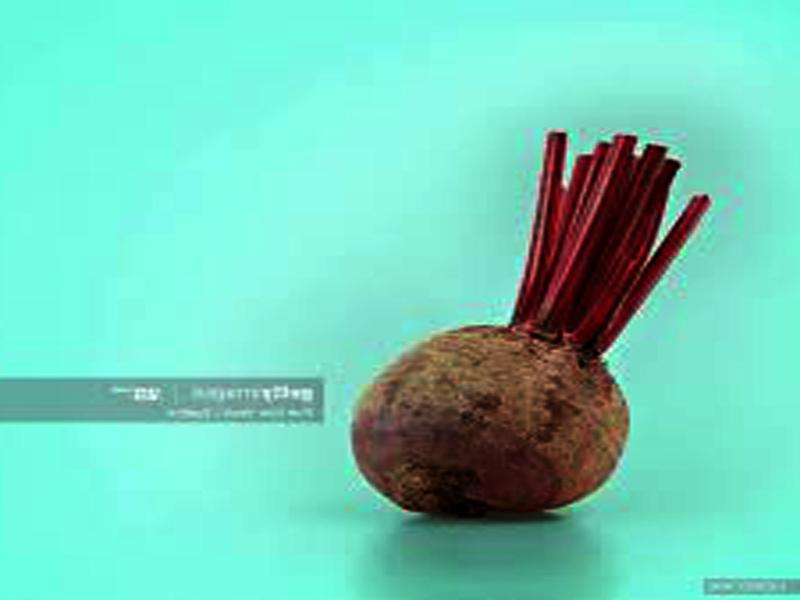Beet: (351, 136, 707, 517)
